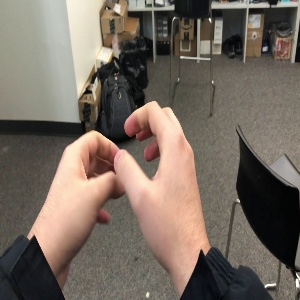hand: (114, 100, 211, 256), (44, 134, 133, 256)
